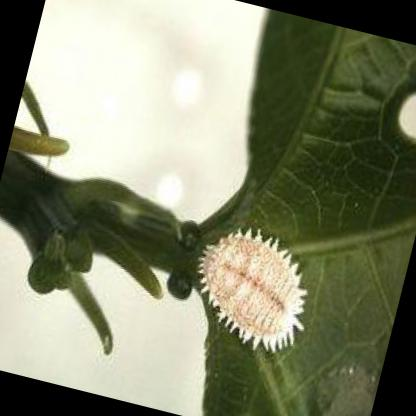mealy bug: (201, 233, 302, 344)
